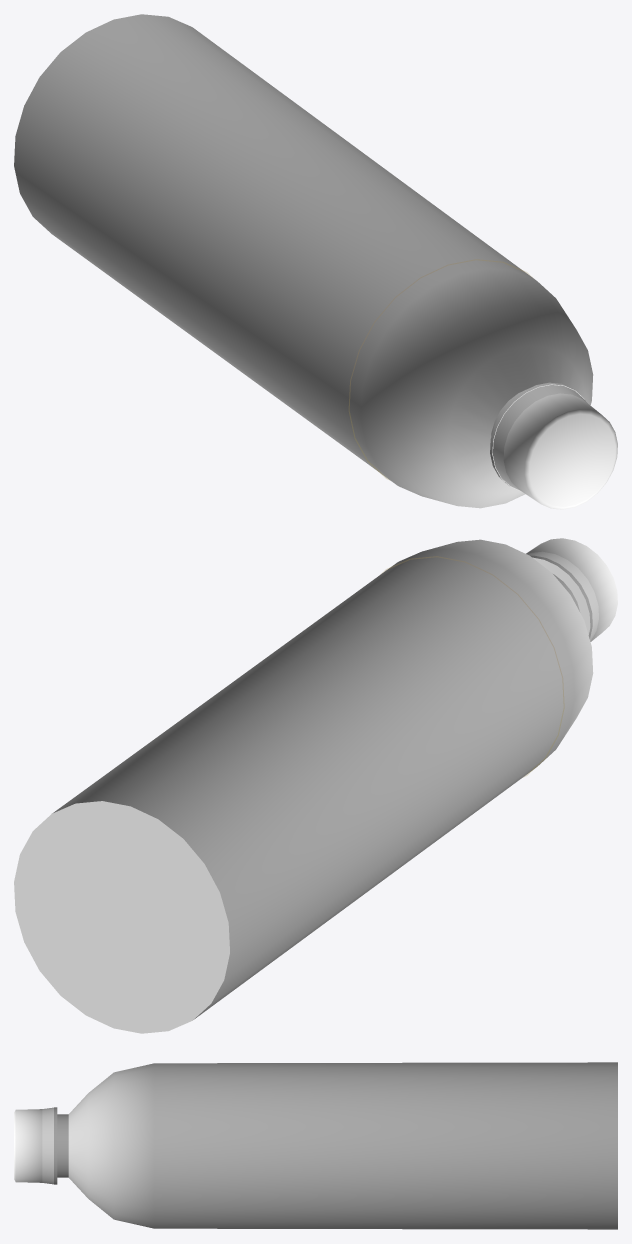
Rendered from model_scale.obj.
3 renders of one model, top to bottom at view 1: azimuth 30°, elevation 25°; view 2: azimuth 150°, elevation 25°; view 3: azimuth 270°, elevation 25°, orthographic. The views are drawn at different scales.
Parts seen in each view (by area): view 1: mesh1_mesh1-geometry; view 2: mesh1_mesh1-geometry; view 3: mesh1_mesh1-geometry.
Part boxes in pixels (x1,y1,x2,y2): mesh1_mesh1-geometry: (14, 14, 617, 509); mesh1_mesh1-geometry: (14, 538, 617, 1033); mesh1_mesh1-geometry: (14, 1062, 617, 1229).
Size of the model in its own units: 0.0686 by 0.0686 by 0.2476.
